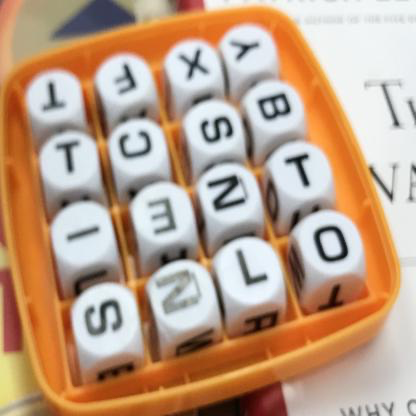b: (257, 84, 299, 131)
c: (116, 129, 157, 165)
e: (136, 188, 185, 247)
f: (106, 57, 144, 106)
i: (58, 215, 109, 258)
l: (226, 241, 276, 298)
n: (203, 167, 260, 224), (150, 266, 207, 321)
o: (306, 217, 356, 276)
s: (75, 291, 132, 349), (195, 105, 243, 152)
t: (47, 135, 92, 186), (281, 150, 325, 200), (32, 75, 77, 121)
x: (171, 42, 216, 92)
y: (224, 32, 271, 70)
